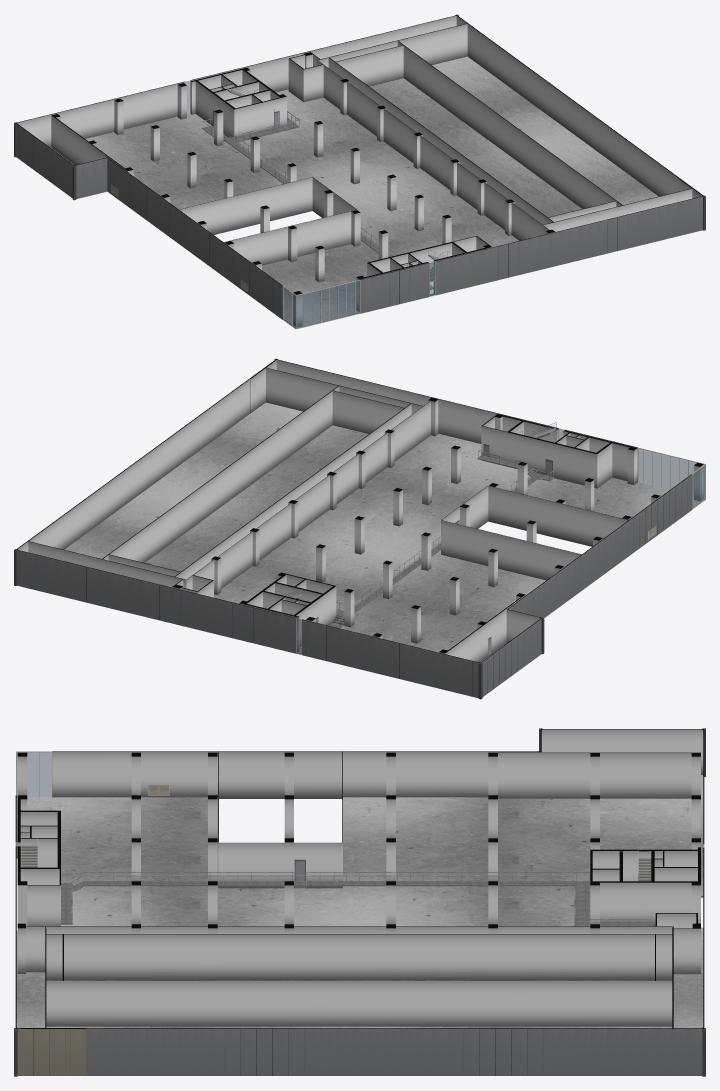
The picture shows the model from 3 angles, top to bottom: view 1: azimuth 30°, elevation 25°; view 2: azimuth 150°, elevation 25°; view 3: azimuth 270°, elevation 25°; orthographic projection. The views are drawn at different scales.
Visible parts, largest first — view 1: W&FF-3F-2, Line1228, 4외유리, Box299, Line669; view 2: W&FF-3F-2, Line1228, 4외유리, Box299, Line669; view 3: W&FF-3F-2, Line1228, Box299, Line669, 4외유리, Railing071.
Part boxes in pixels (bbox=[...]): W&FF-3F-2: bbox=[16, 15, 703, 327]; Line1228: bbox=[50, 56, 658, 328]; 4외유리: bbox=[185, 80, 435, 329]; Box299: bbox=[202, 118, 391, 257]; Line669: bbox=[202, 111, 398, 256]; W&FF-3F-2: bbox=[16, 359, 703, 698]; Line1228: bbox=[64, 402, 704, 662]; 4외유리: bbox=[296, 428, 705, 654]; Box299: bbox=[329, 455, 554, 628]; Line669: bbox=[331, 448, 553, 627]; W&FF-3F-2: bbox=[15, 729, 704, 1075]; Line1228: bbox=[16, 775, 703, 1028]; Box299: bbox=[61, 881, 652, 926]; Line669: bbox=[61, 872, 651, 925]; 4외유리: bbox=[15, 751, 704, 847]; Railing071: bbox=[20, 837, 651, 881].
Size of the model in its own units: 67.15 by 5.87 by 65.15.
Materials: 15 (11 with a texture image).
